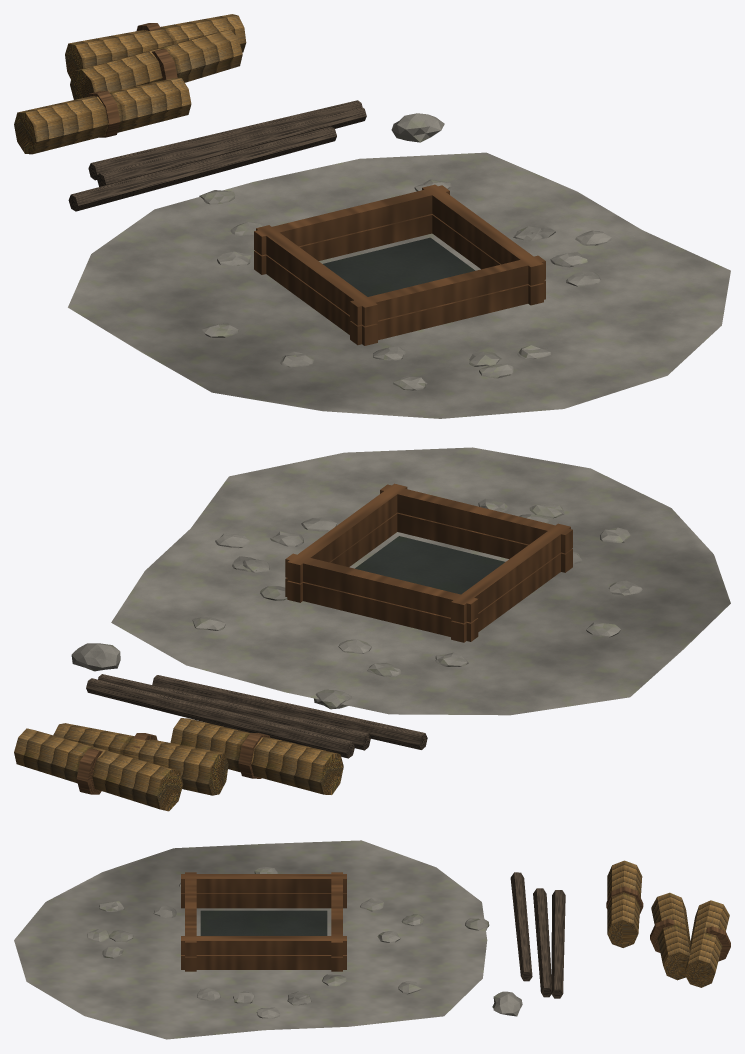
The model's file is cantiere_pozzo.glb.
The picture shows the model from 3 angles, top to bottom: view 1: azimuth 30°, elevation 25°; view 2: azimuth 150°, elevation 25°; view 3: azimuth 270°, elevation 25°; orthographic projection. The views are drawn at different scales.
Visible parts, largest first — view 1: cantiere_pozzo; view 2: cantiere_pozzo; view 3: cantiere_pozzo.
Boxes of the visible parts, <box> form: cantiere_pozzo: <box>14,14,730,418</box>; cantiere_pozzo: <box>14,447,730,811</box>; cantiere_pozzo: <box>14,840,730,1039</box>.
Bounding box in the file's own units: 4.83 × 0.42 × 7.35.
Materials: 6 (6 with a texture image).
